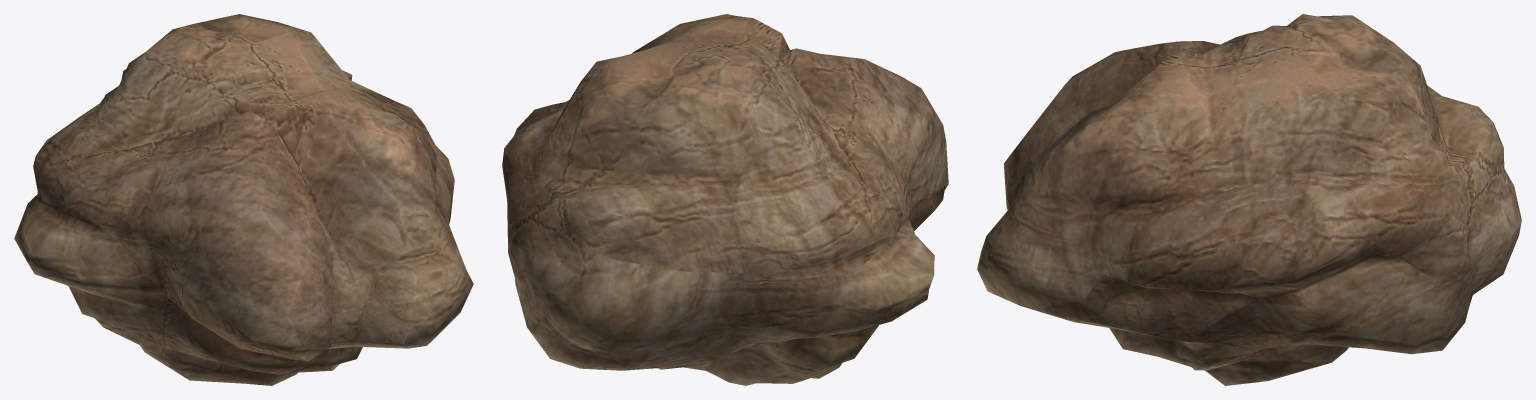
The model's file is rock_small04.dae.
3 renders of one model, left to right at view 1: azimuth 30°, elevation 25°; view 2: azimuth 150°, elevation 25°; view 3: azimuth 270°, elevation 25°, orthographic. The views are drawn at different scales.
Parts seen in each view (by area): view 1: Mesh02; view 2: Mesh02; view 3: Mesh02.
Part boxes in pixels (x1=…): Mesh02: x1=14, y1=14, x2=473, y2=385; Mesh02: x1=502, y1=14, x2=948, y2=385; Mesh02: x1=977, y1=14, x2=1521, y2=385.
Size of the model in its own units: 2.93 by 2.3 by 3.29.
